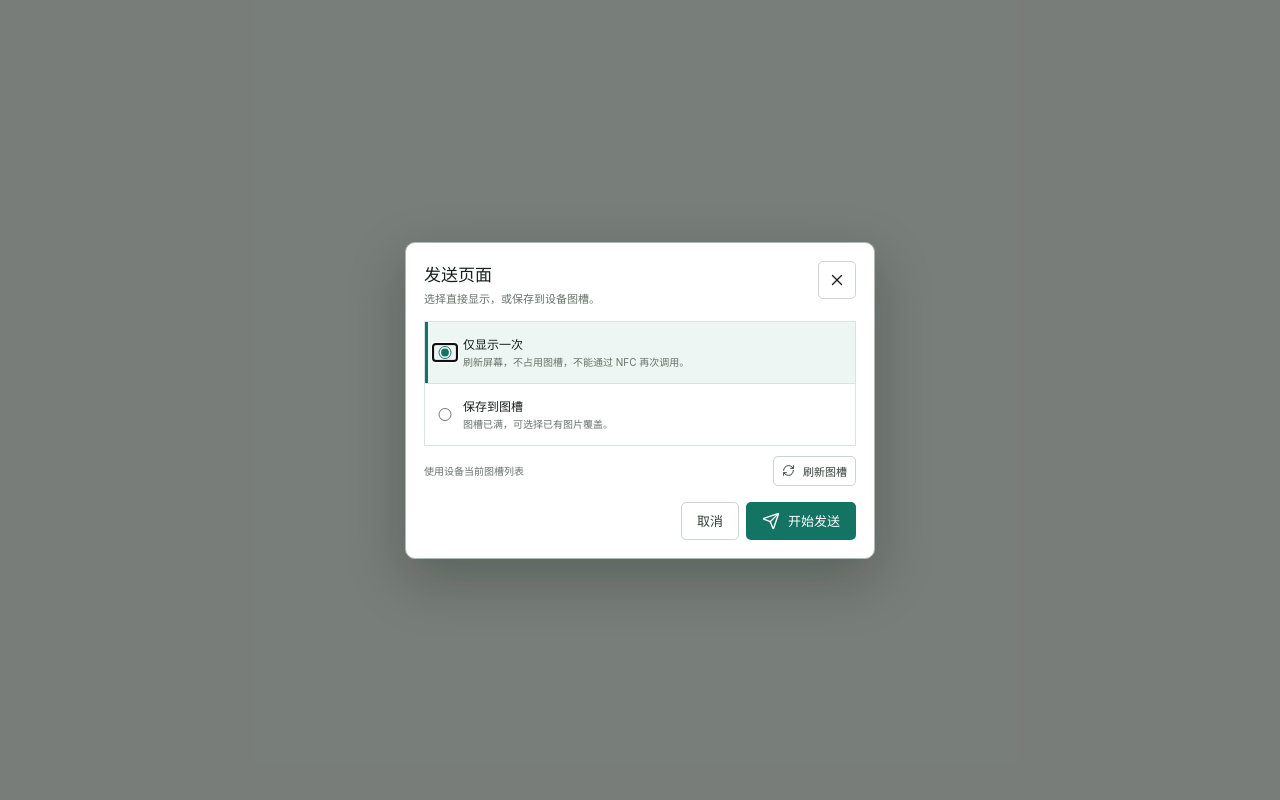
Test case: shared canvas send dialog (no real device) › permits choosing an existing slot when append is full (physical fit 0)
Later steps or results of the test are not shown.
What coordinates should you click on to do the following:
click the radio button labelled "保存到图槽 图槽已满，可选择已有图片覆盖。"
I would click on:
 (445, 414)
Its box is [435,408,455,420].
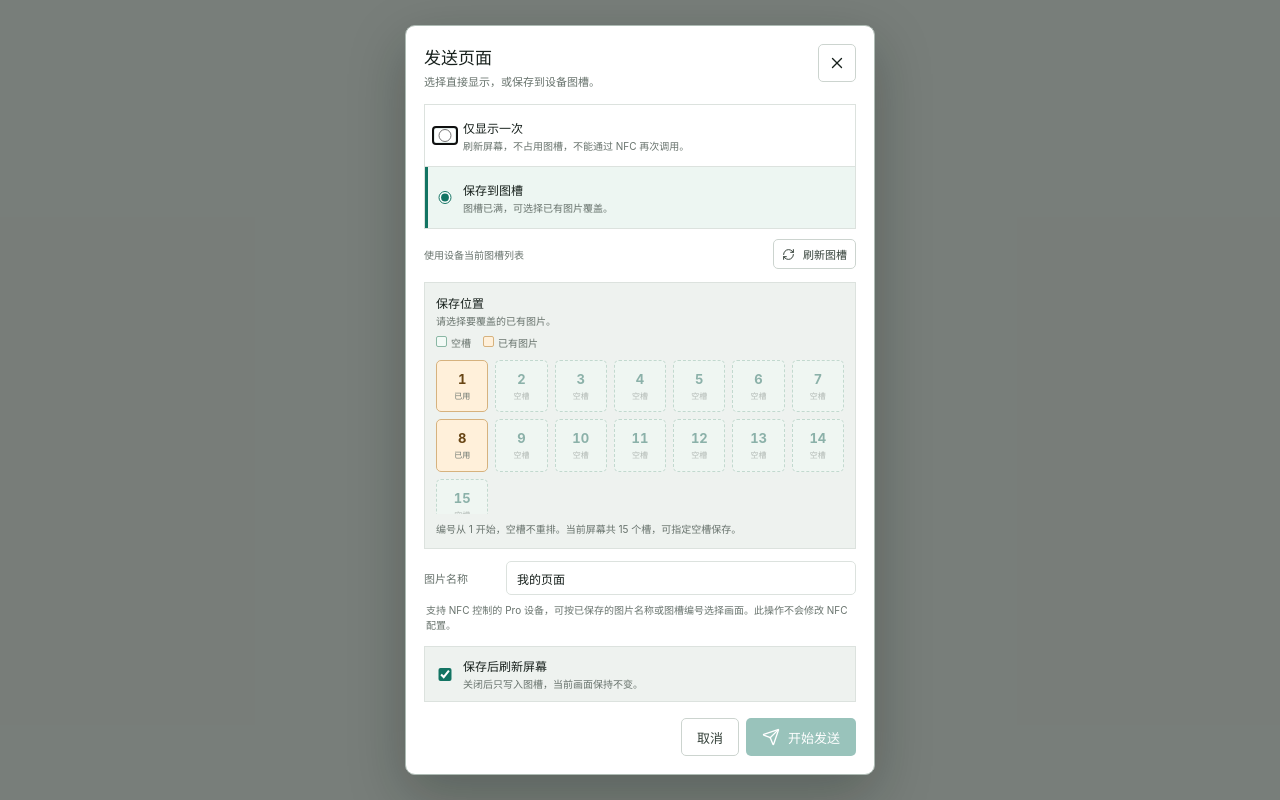
expect the text "图槽已满，可选择已有图片覆盖" is shown: met, box [463,202,613,214]
expect the button "开始发送" is disabled: met, box [746,718,856,756]
expect the option "3 空槽" is disabled: met, box [555,360,607,412]
